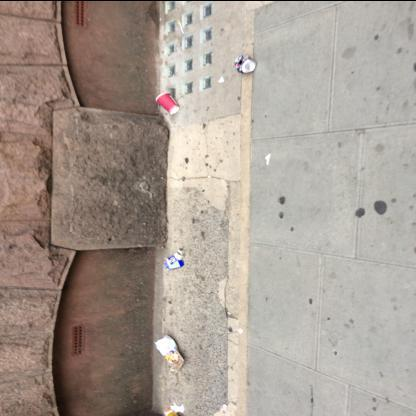kagit: (154, 334, 186, 372)
karton: (157, 93, 181, 115), (165, 249, 185, 271)
metal: (235, 55, 258, 73)
